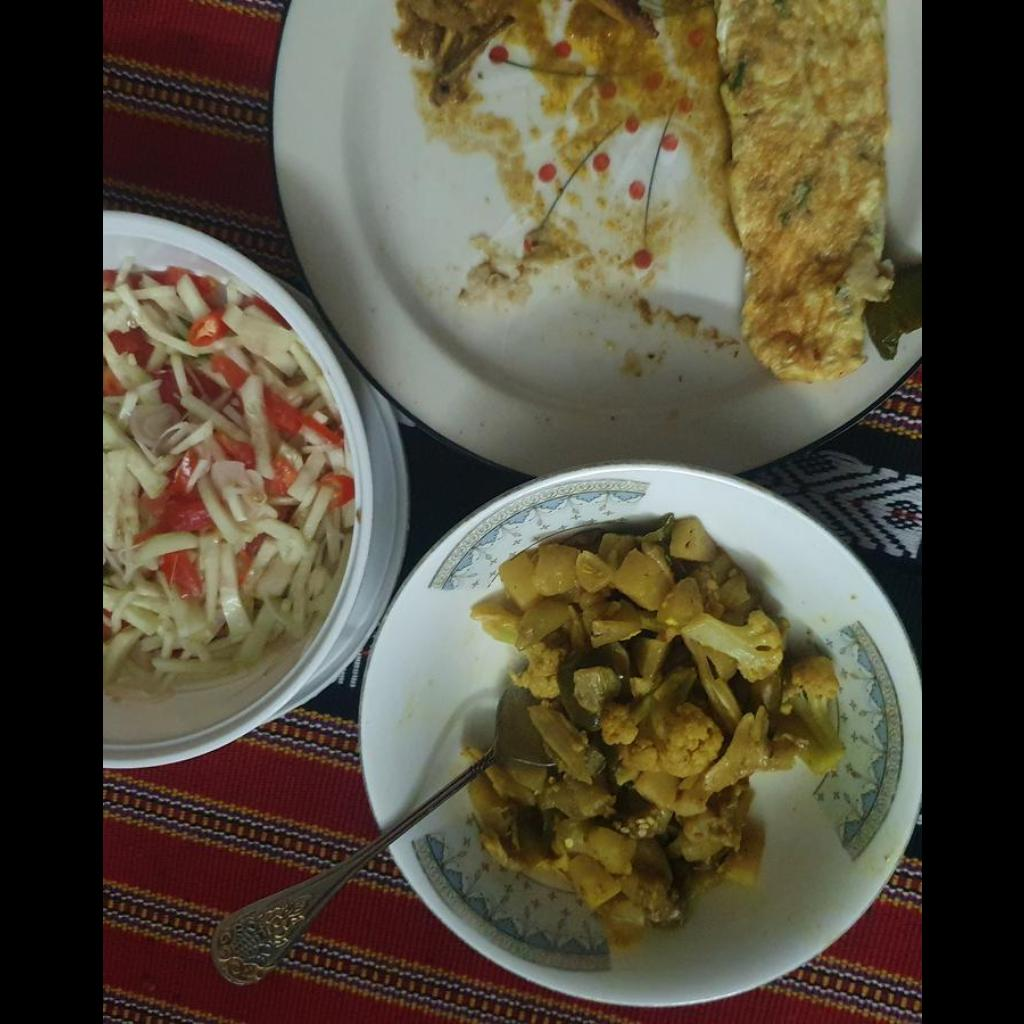egg-poached: (718, 1, 898, 378)
salad: (102, 268, 350, 678)
vegetable: (467, 518, 841, 947)
